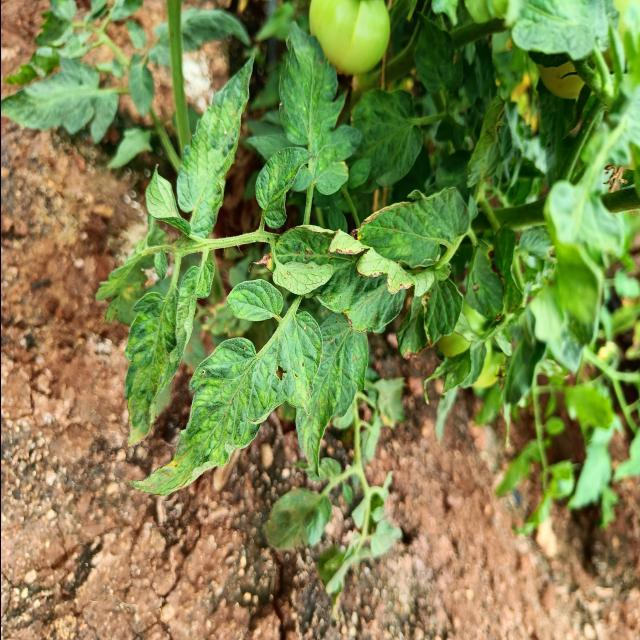Tomato mosaic virus leaf: (245, 196, 418, 338)
